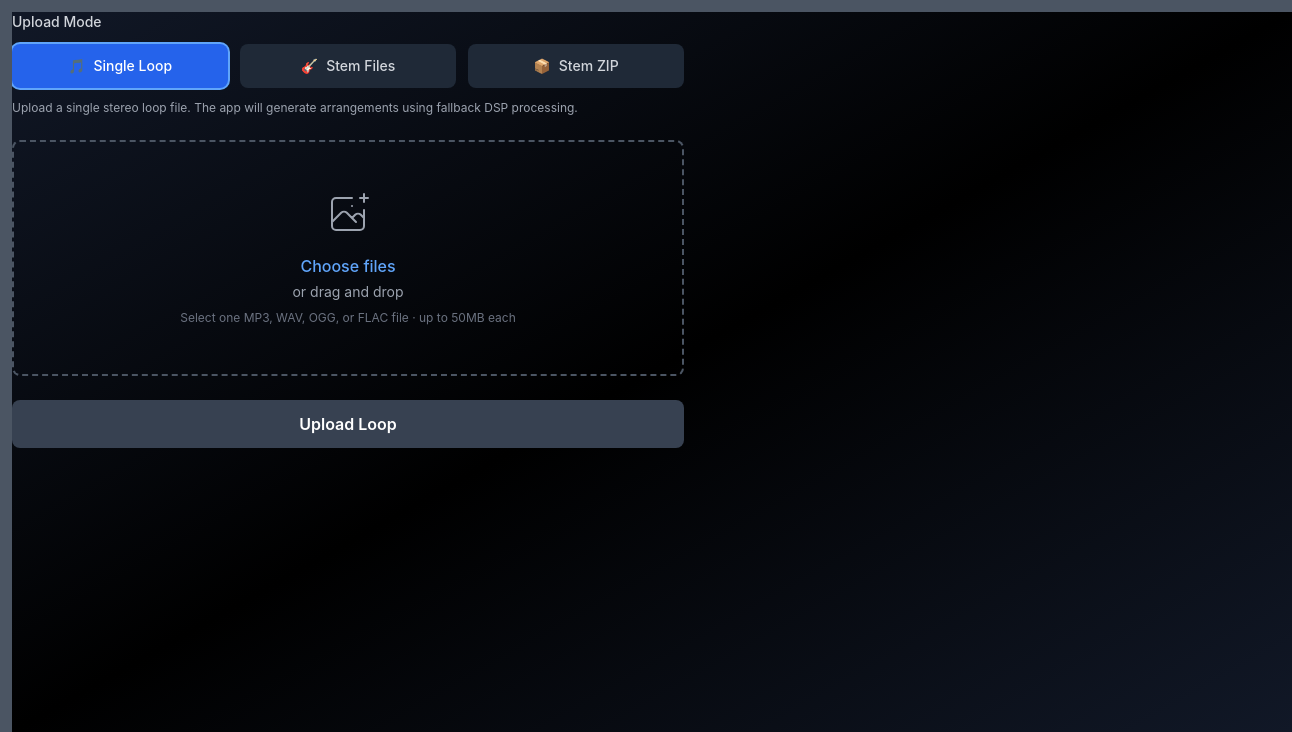
it: UploadForm Component › Mode Selector UI › should switch to stem-pack mode when clicked
The width and height of the screenshot is (1292, 732).
Click the button "📦 Stem ZIP".
click(576, 66)  # box [468,44,684,88]
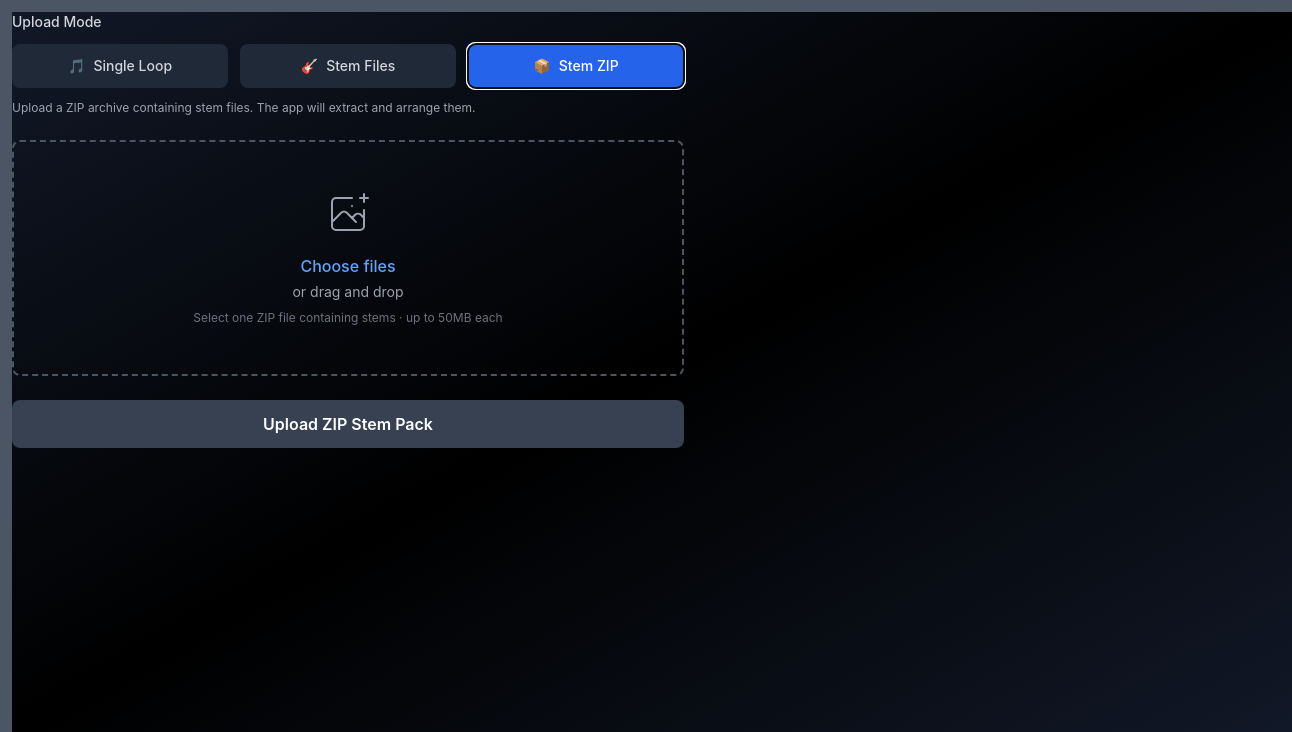
Expected: the text "Upload a ZIP archive" is shown, [12,100,476,115]
